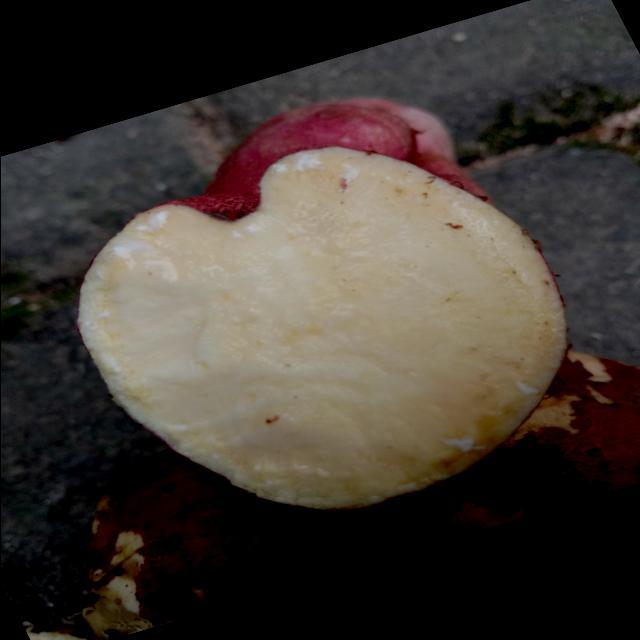Healthy Sweet Potato: (77, 148, 565, 509)
